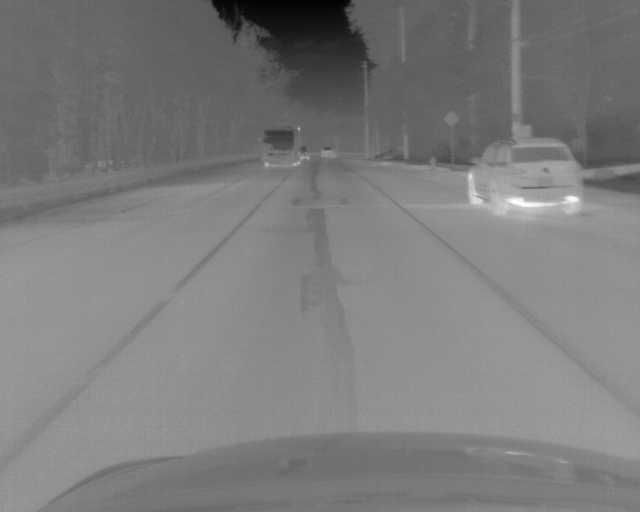car: (468, 135, 586, 214), (259, 125, 301, 168), (320, 146, 336, 158), (301, 147, 310, 160)
